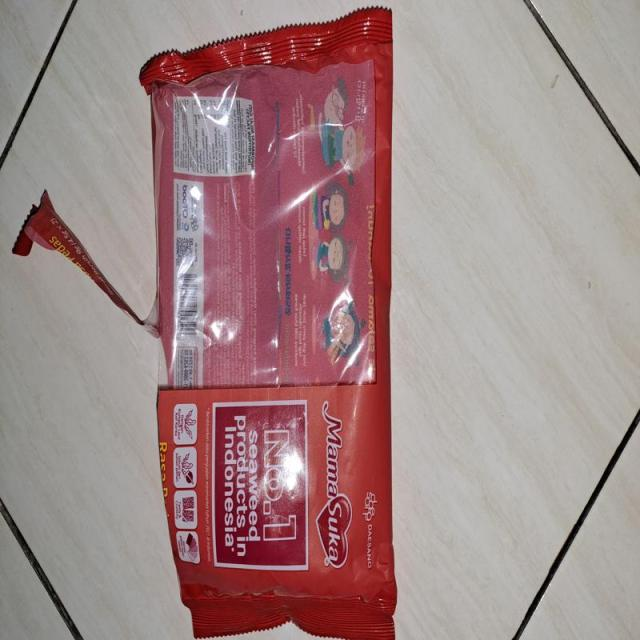Anorganik: (136, 4, 422, 640)
